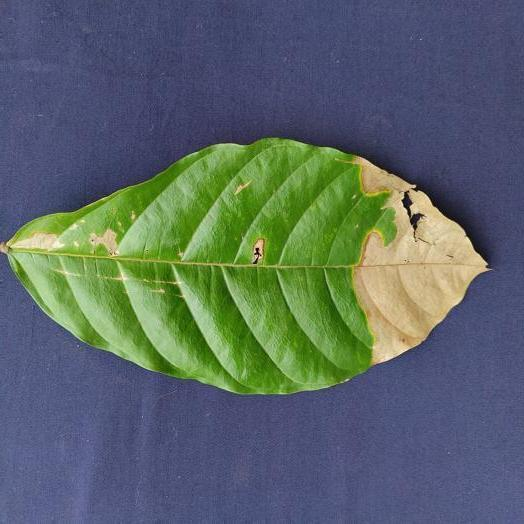Potassium: (0, 138, 486, 393)
